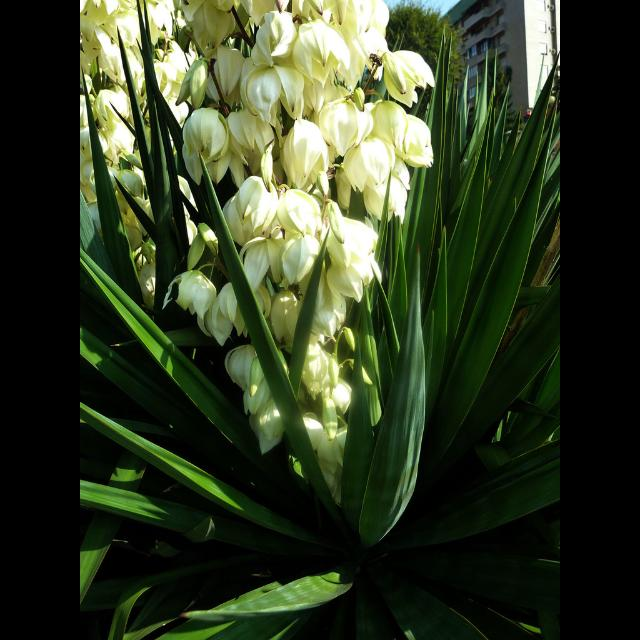Flower: (80, 0, 438, 500)
